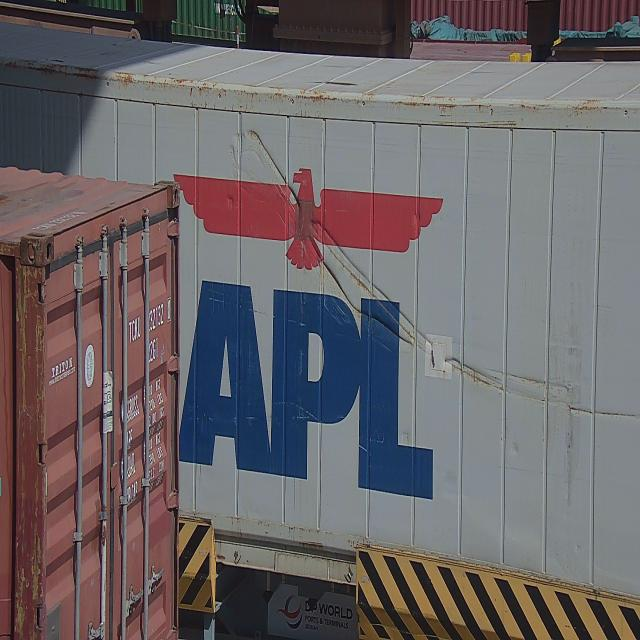dent: (241, 123, 504, 394)
